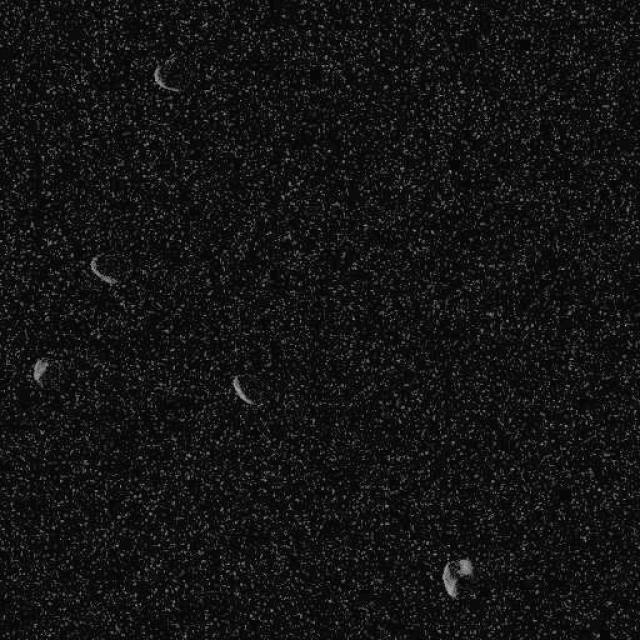D2: (440, 556, 475, 600), (88, 252, 120, 286), (229, 372, 259, 408), (152, 62, 180, 92), (30, 355, 50, 386)
